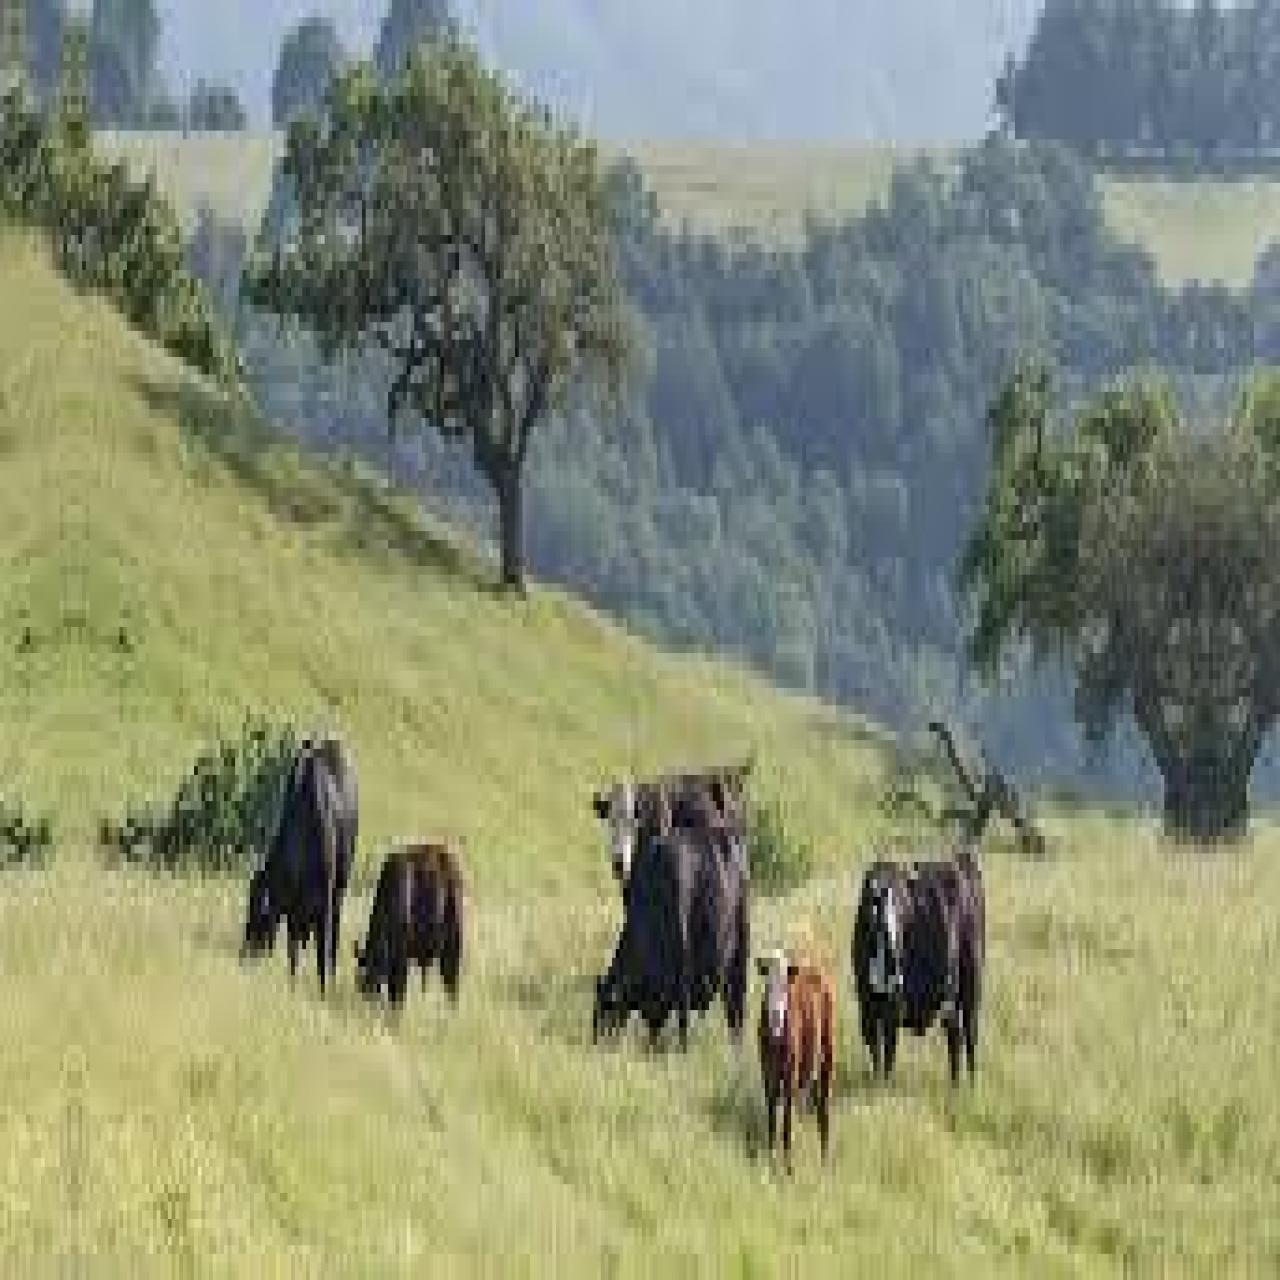cow: (587, 818, 756, 1062), (851, 853, 989, 1105), (237, 735, 360, 1006), (347, 836, 470, 1027), (595, 765, 760, 888), (757, 940, 836, 1185)
